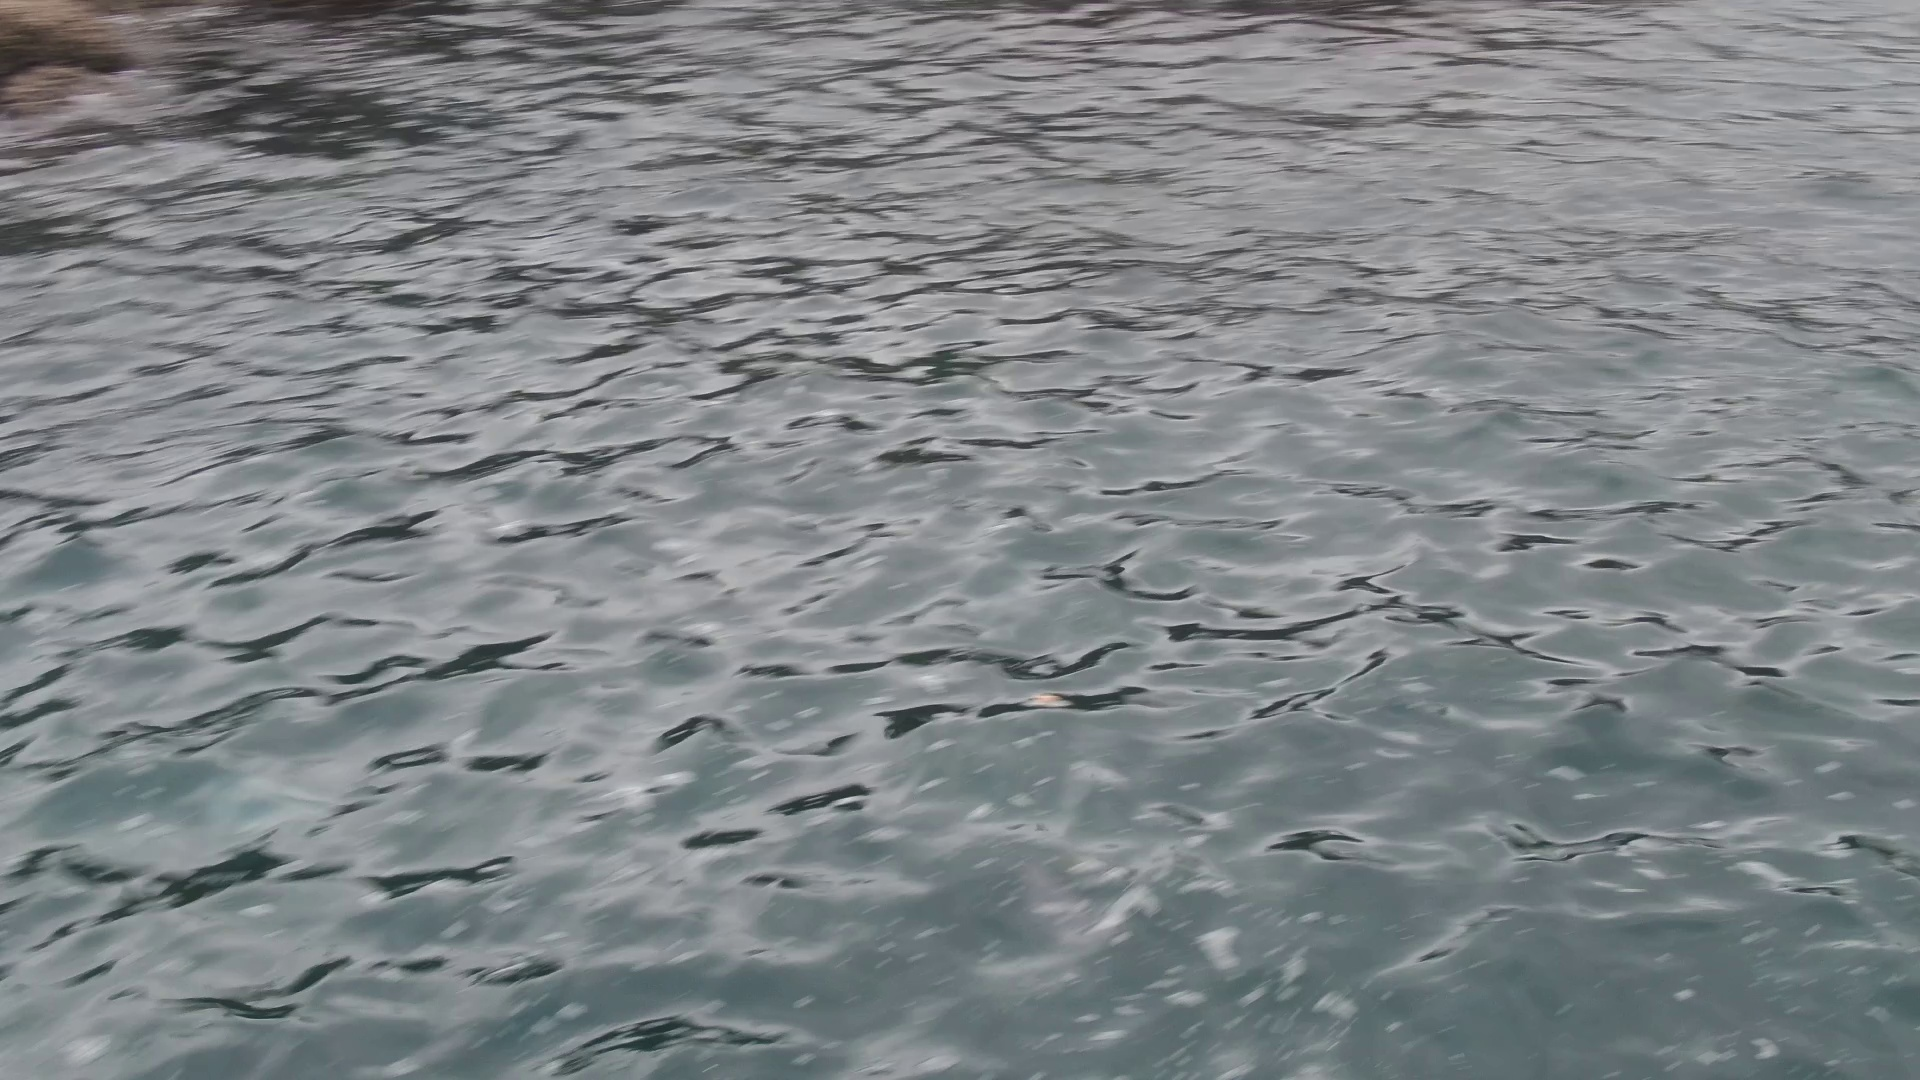garbage: (1023, 692, 1071, 709)
